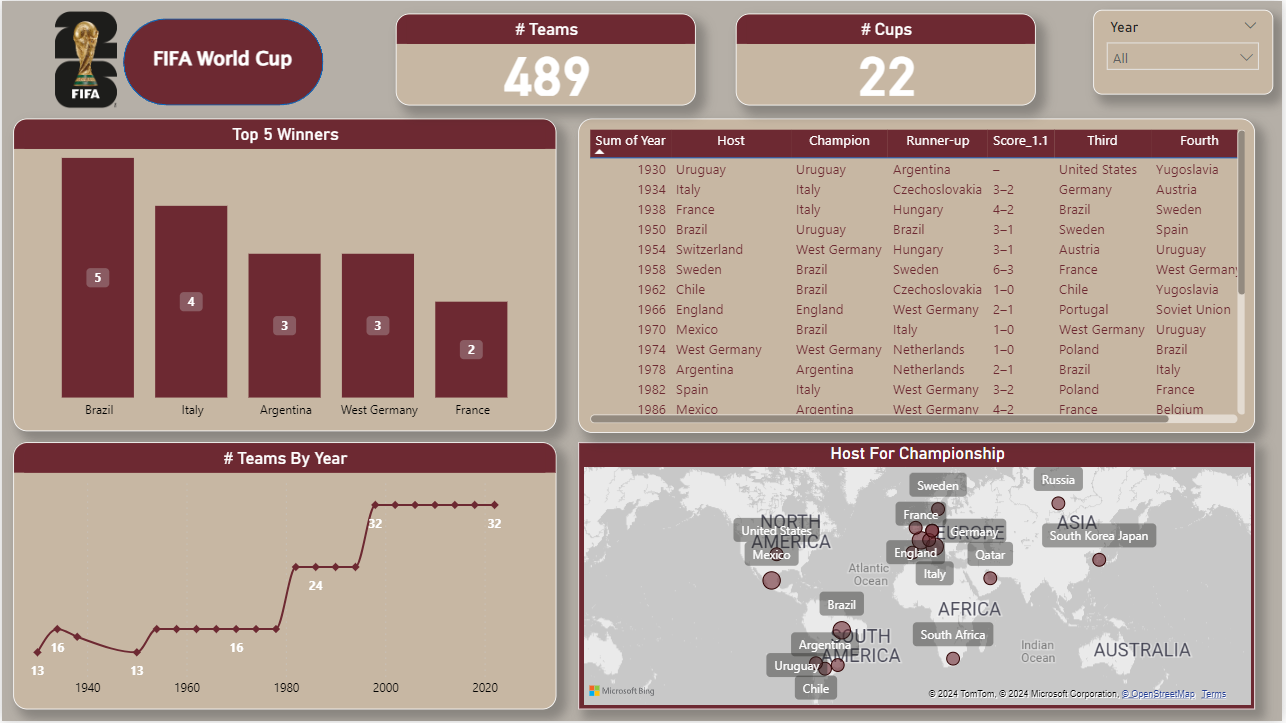

The page's visual inventory and layout, read from the dashboard file:
{"tool":"powerbi","page":{"name":"Page 1","canvas":[1280,720],"ordinal":0},"visuals":[{"type":"shape","box":[121.8,16.9,200.2,86.8],"z":0},{"type":"map","title":"Host For Championship","fields":{"Size":["Results.Host"],"Category":["Results.Host"]},"box":[575.7,441.4,677.1,267.1],"z":1000},{"type":"slicer","fields":{"Values":["Results.Year"]},"box":[1090.9,8.2,179.8,85.1],"z":2000},{"type":"columnChart","title":"Top 5 Winners ","fields":{"Category":["Results.Champion"],"Y":["Results.Champion"]},"box":[11.4,117.1,542.9,312.9],"z":3000},{"type":"tableEx","fields":{"Values":["Results.Year","Results.Host","Results.Champion","Results.Runner-up","Results.Score_1.1","Results.Third","Results.Fourth","Results.Score.1.1"]},"box":[575.7,117.1,677.1,314.3],"z":4000},{"type":"lineChart","title":"# Teams By Year","fields":{"Y":["Results.No. ofteams"],"Category":["Results.Year"]},"box":[11.4,441.4,542.9,267.1],"z":5000},{"type":"image","box":[0,0,167.4,116.6],"z":6000},{"type":"card","title":"# Teams","fields":{"Values":["Results.# Teams"]},"box":[393.2,12.1,300.3,91.7],"z":7000},{"type":"card","title":"# Cups","fields":{"Values":["Results.# Cups"]},"box":[733.3,12.1,300.3,91.7],"z":8000},{"type":"textbox","box":[135.1,38.6,171.3,39.8],"z":9000}]}

Visuals, with their boxes in screenshot pixels (x1, y1, x2, y2), scaled from the page's 1280x720 canvas onto the 1286x723 screenshot:
shape: bbox=[122, 17, 324, 104]
"Host For Championship" map: bbox=[578, 443, 1259, 711]
slicer - Results.Year: bbox=[1096, 8, 1277, 94]
"Top 5 Winners " columnChart: bbox=[11, 118, 557, 432]
tableEx - Results.Year x Results.Host: bbox=[578, 118, 1259, 433]
"# Teams By Year" lineChart: bbox=[11, 443, 557, 711]
image: bbox=[0, 0, 168, 117]
"# Teams" card: bbox=[395, 12, 697, 104]
"# Cups" card: bbox=[737, 12, 1038, 104]
textbox: bbox=[136, 39, 308, 79]
